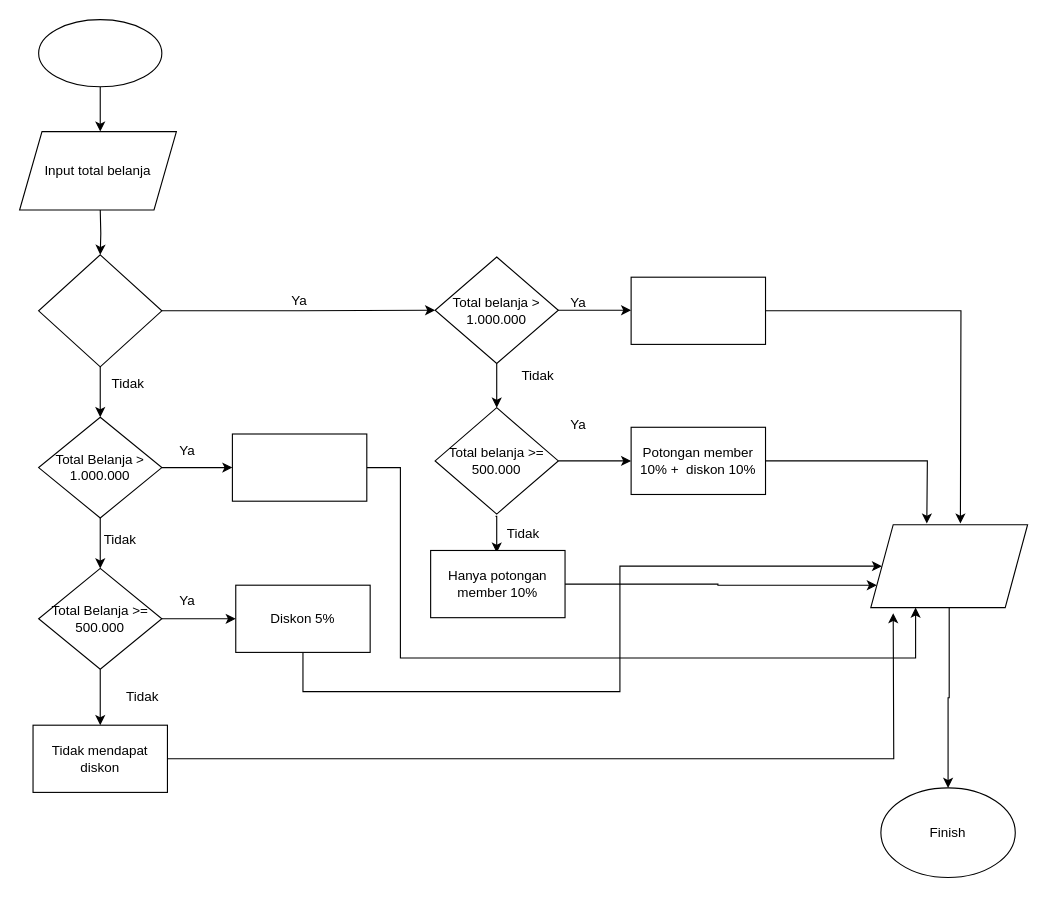
The diagram is 1047 pixels wide and 897 high, and some of its shapes have lost their labels. The shapes that lost their labels are listed below. From the top down, each one's centre as x and y in pixels, then its label:
At (100,52): "Start".
At (100,310): "Member?".
At (698,310): "Potongan member 10% + diskon 15%".
At (299,467): "Diskon 10%".
At (949,566): "Output total belanja".
